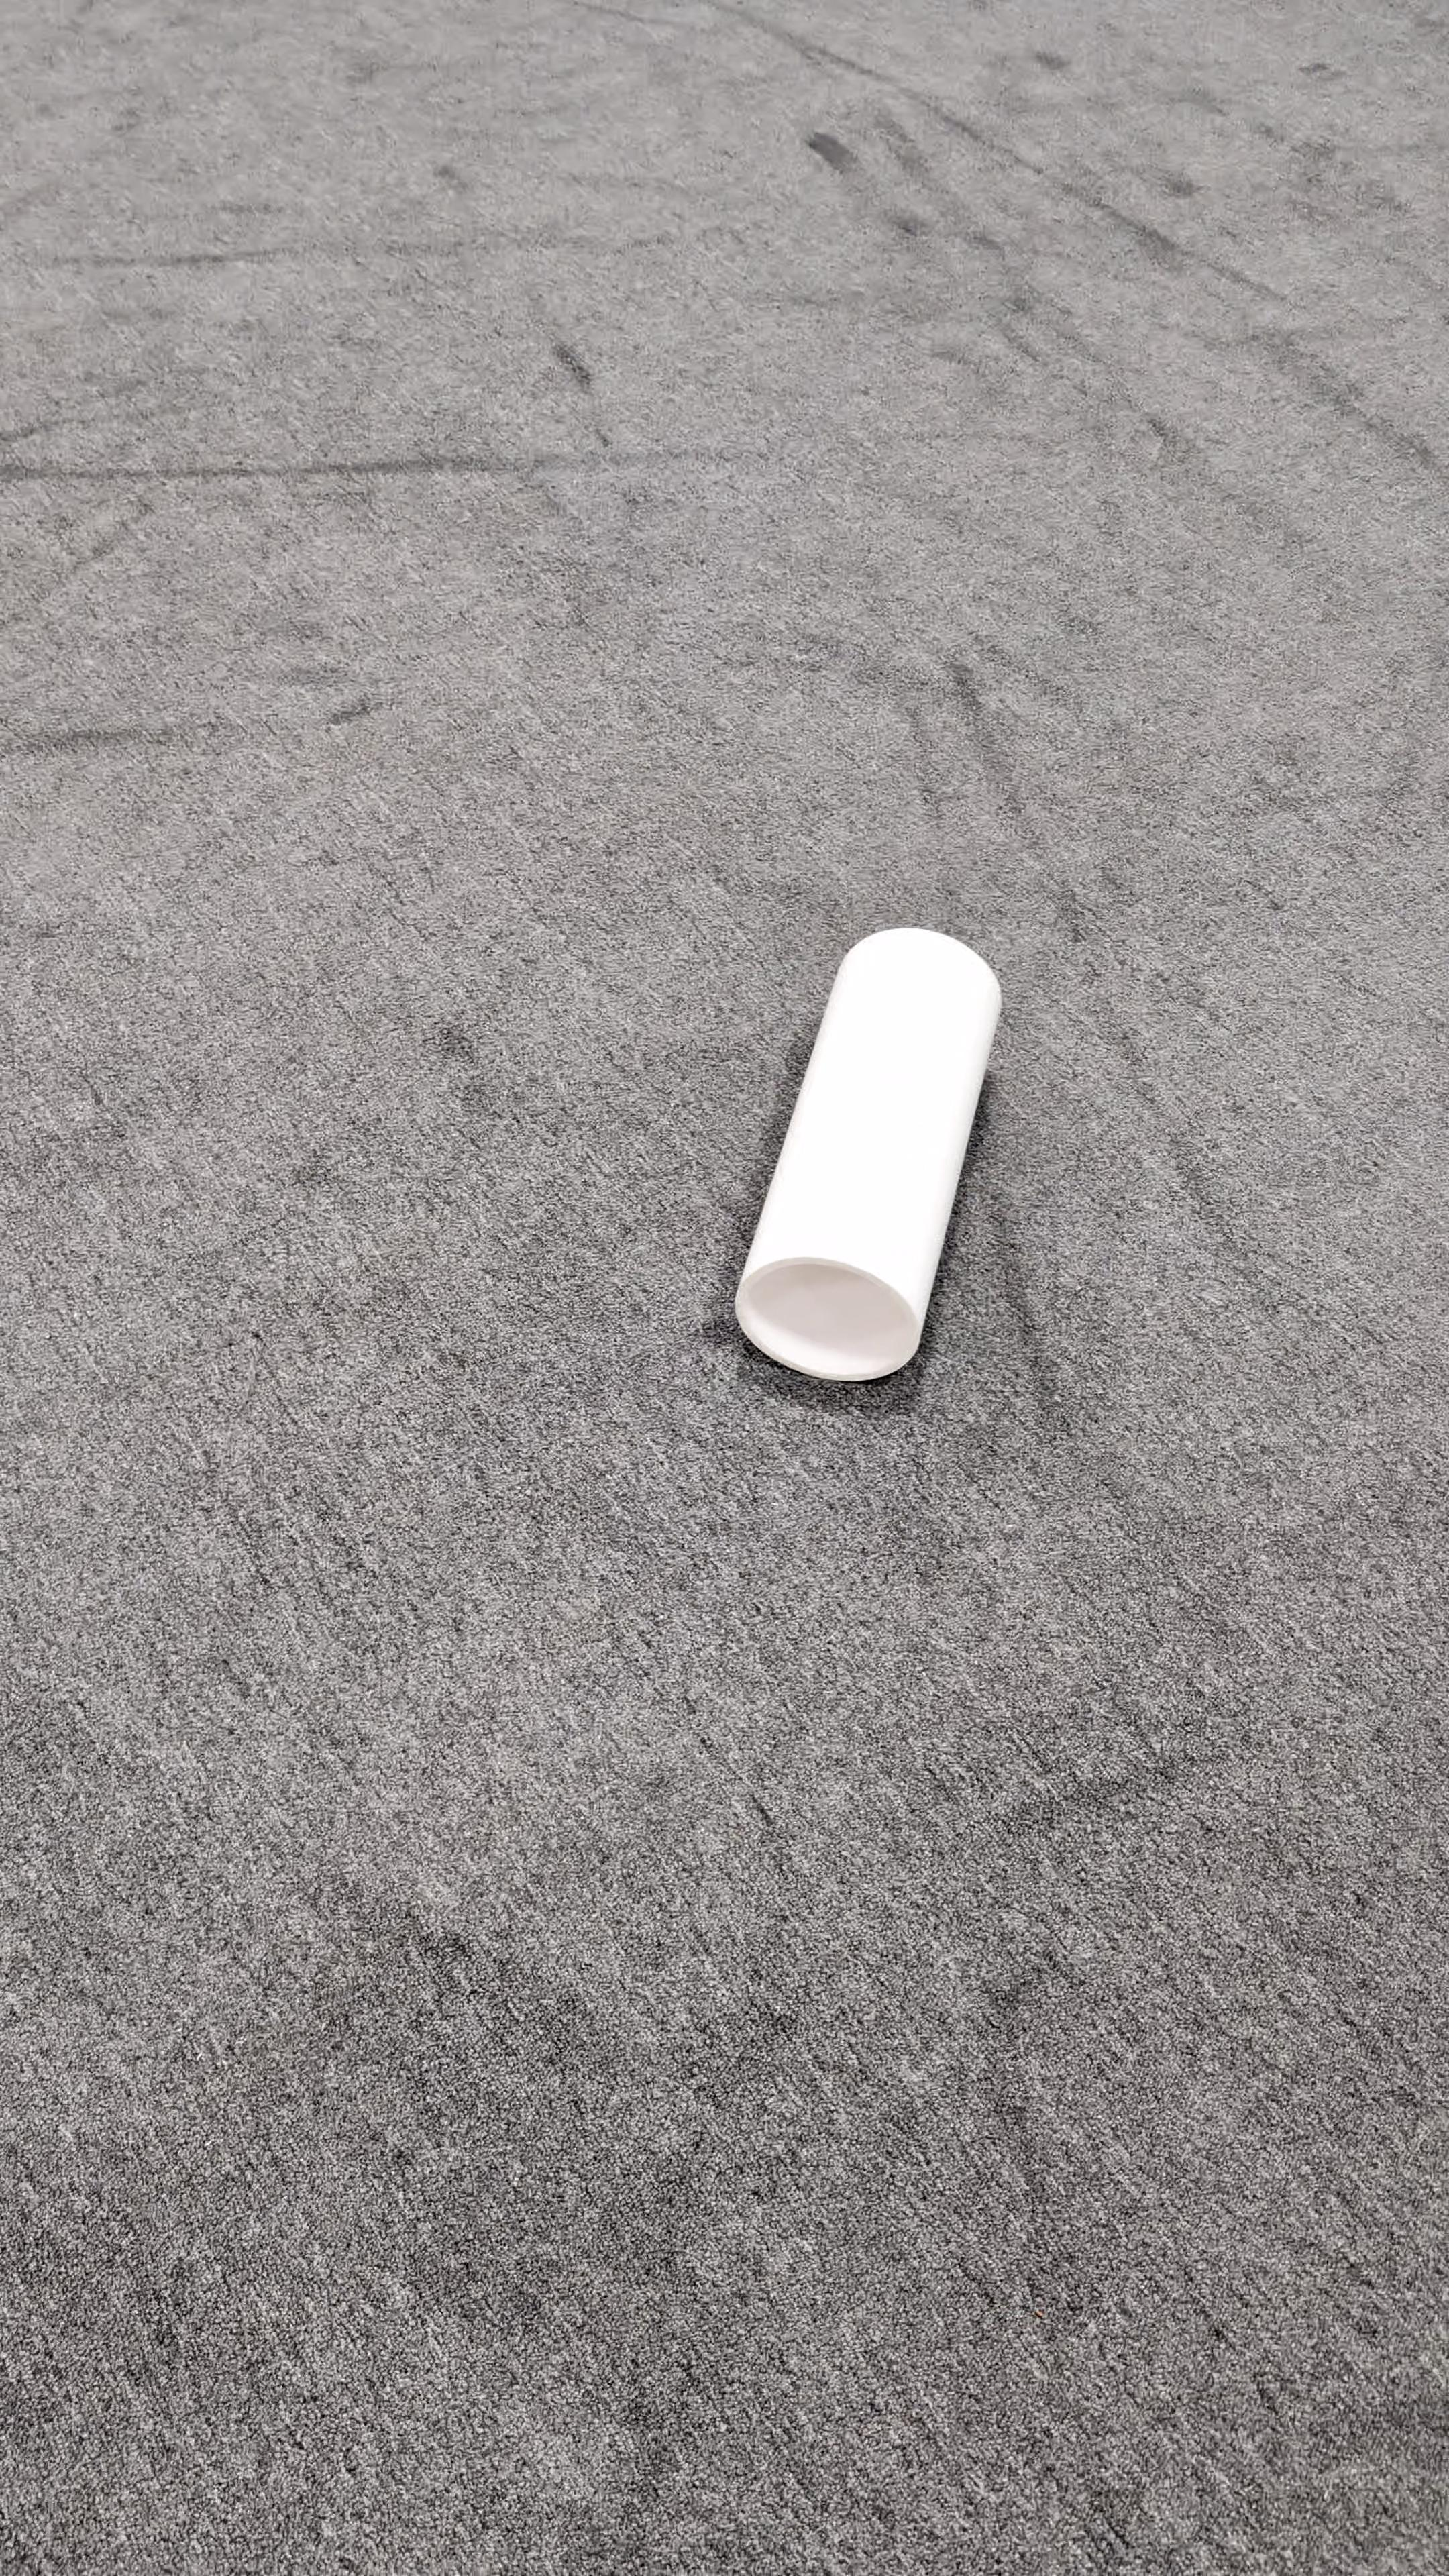coral: (732, 924, 1005, 1382)
